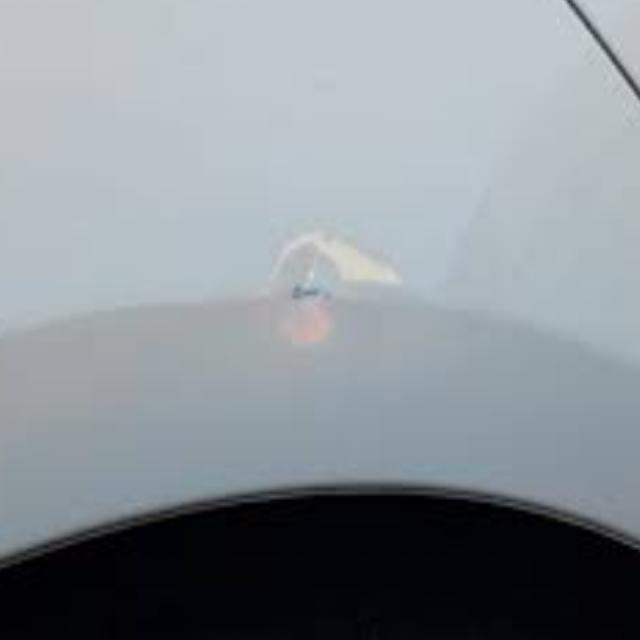dents: (276, 236, 352, 354)
